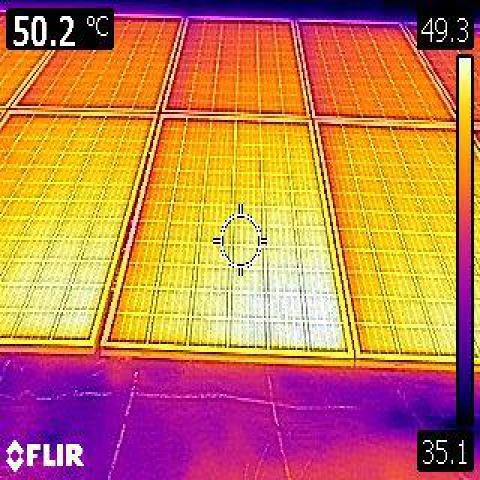fault: (270, 249, 344, 351)
